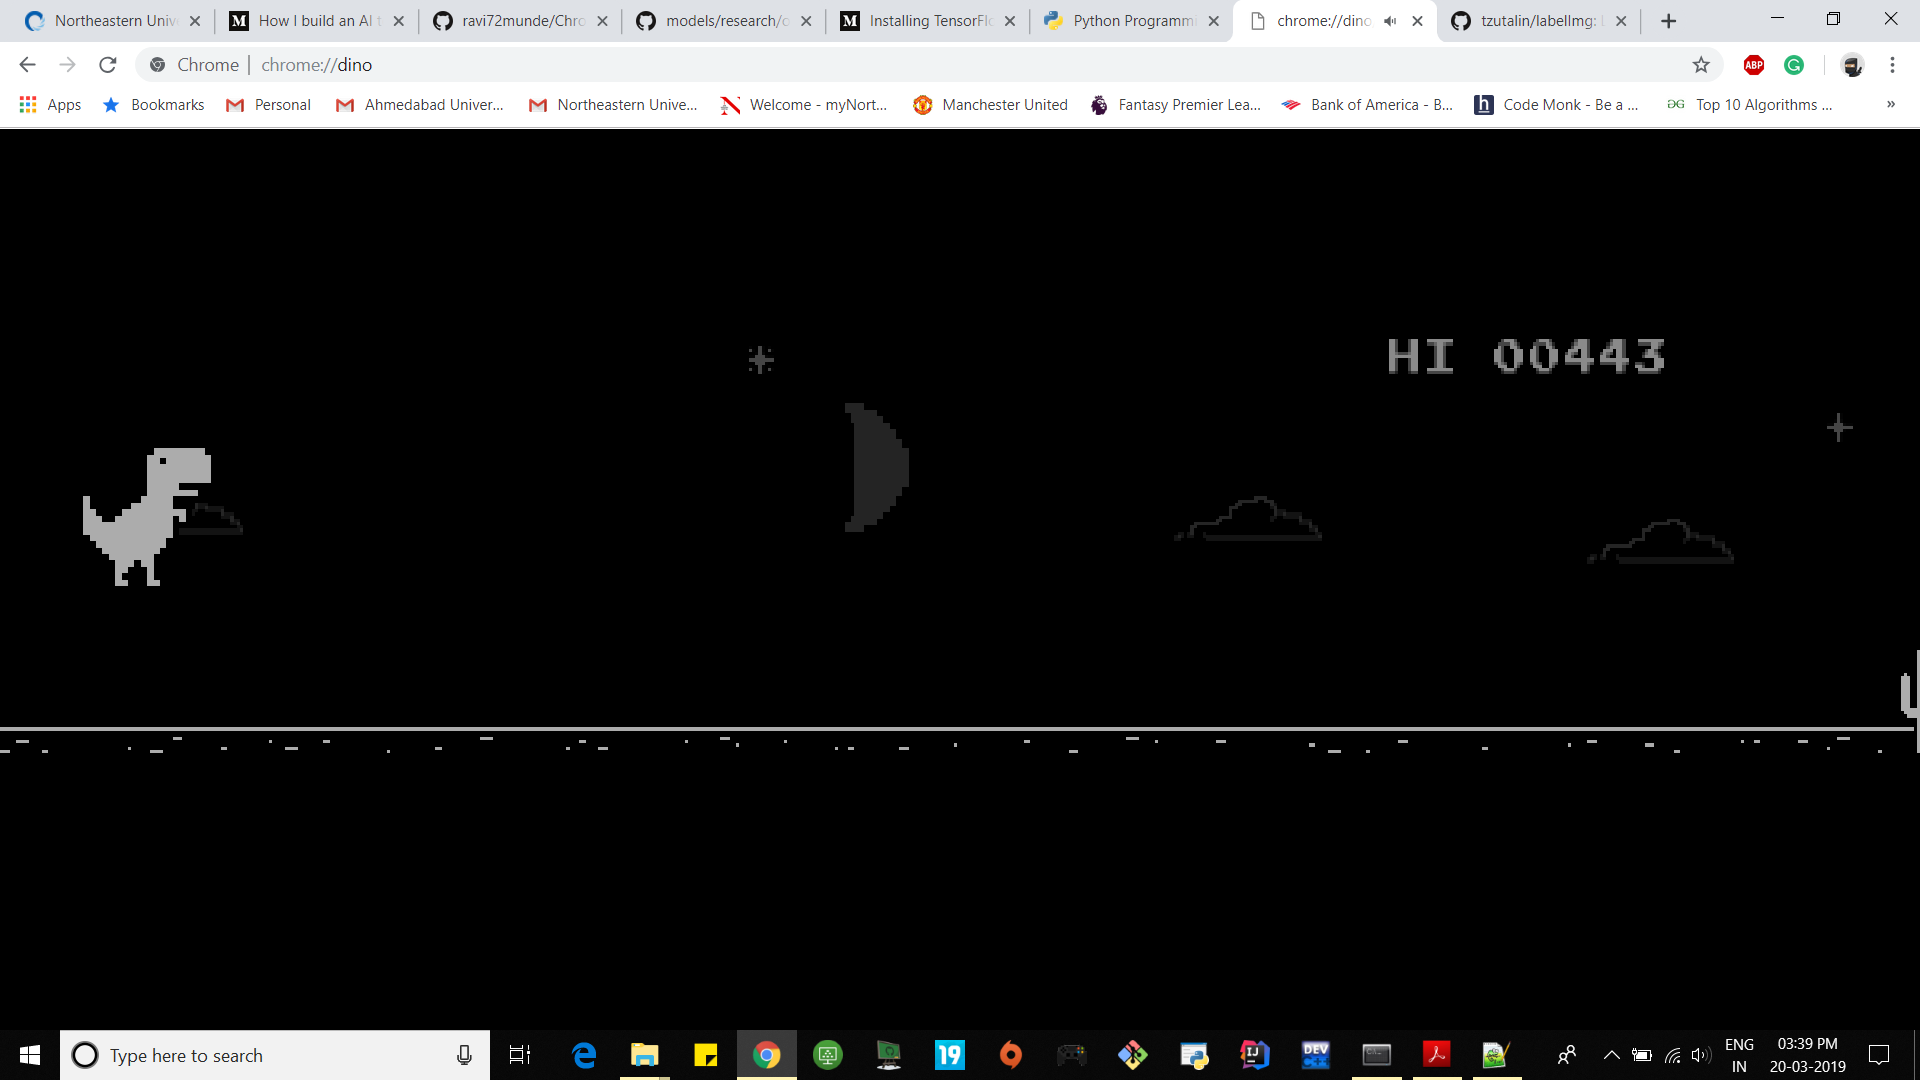dino: (83, 447, 211, 591)
